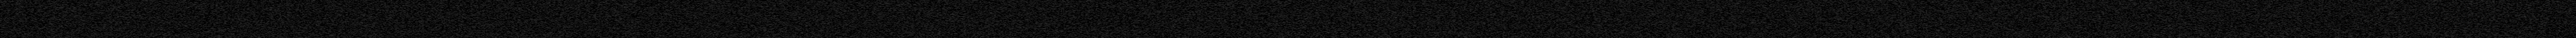wv_am: (2096, 0, 2100, 38)
wv_lsb: (1676, 25, 1679, 30), (1676, 10, 1677, 15), (1676, 33, 1677, 36), (1676, 20, 1677, 23)
wv_usb: (2440, 0, 2445, 38), (2206, 0, 2210, 38), (2062, 0, 2065, 38), (1985, 8, 1988, 21), (1985, 0, 1988, 8), (1986, 31, 1988, 35), (1986, 28, 1988, 30), (1986, 23, 1988, 25)
wv_wbfm: (2218, 0, 2313, 38), (1401, 0, 1475, 38), (1863, 0, 1925, 38), (1395, 18, 1403, 21)
